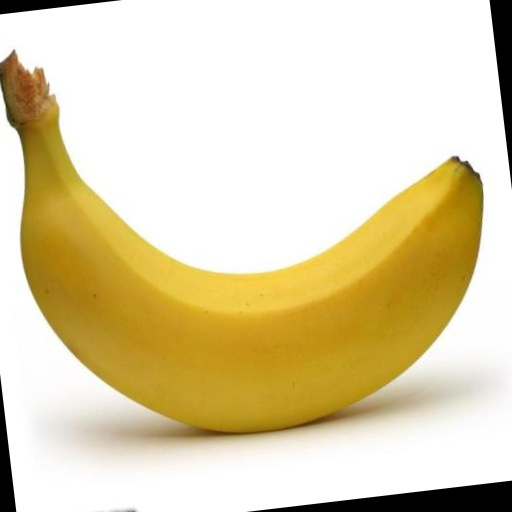fruit: (0, 53, 482, 432)
